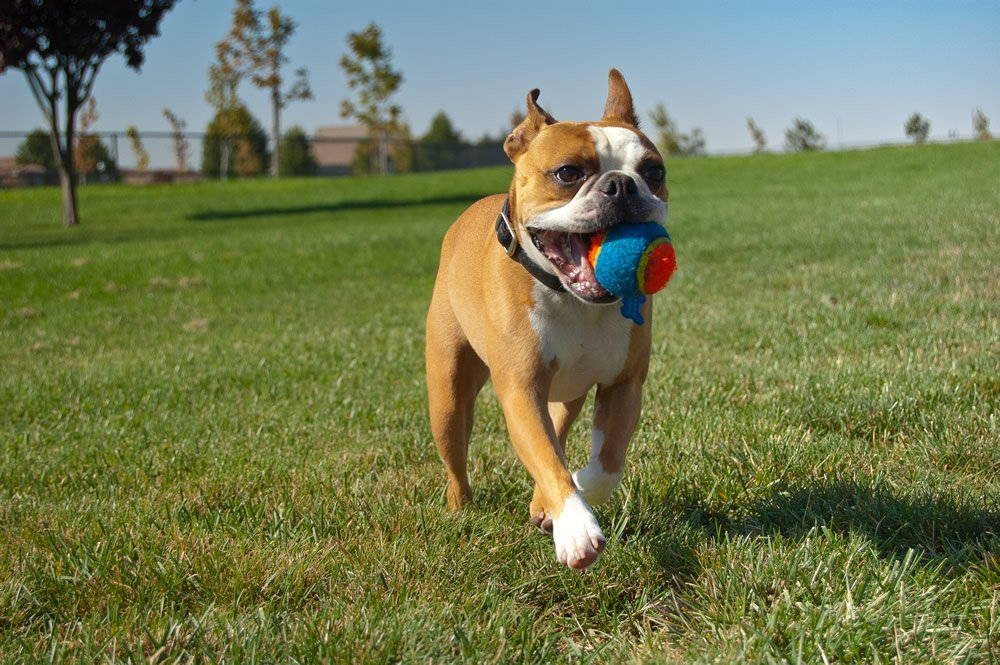dog: (415, 65, 703, 566)
